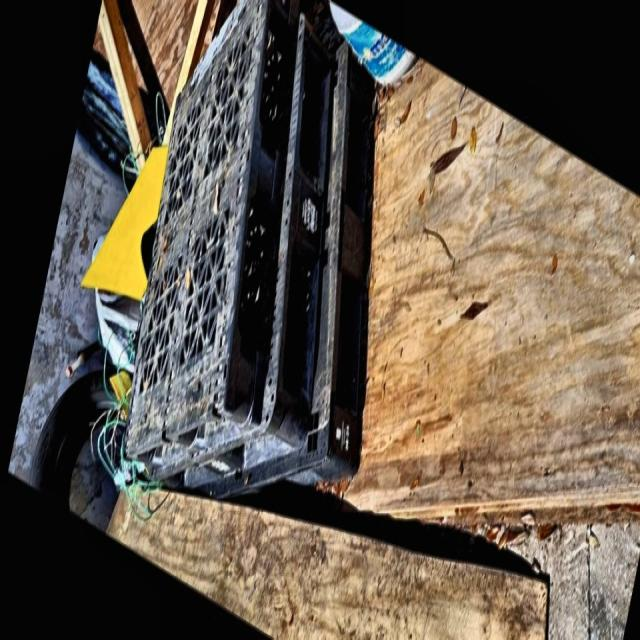non-igps: (122, 0, 299, 487), (251, 0, 339, 462), (300, 33, 384, 492)
